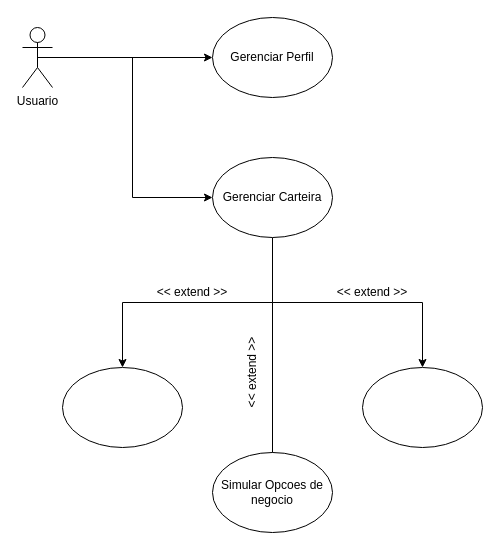
This 500x550 diagram has some shape labels left out. The shapes that lost their labels are listed below. From the top down, each one's centre as x and y in pixels, then its label:
At point 122,407: "Gerenciar Ordem de Compra".
At point 422,407: "Gerenciar Ordem de Venda".
